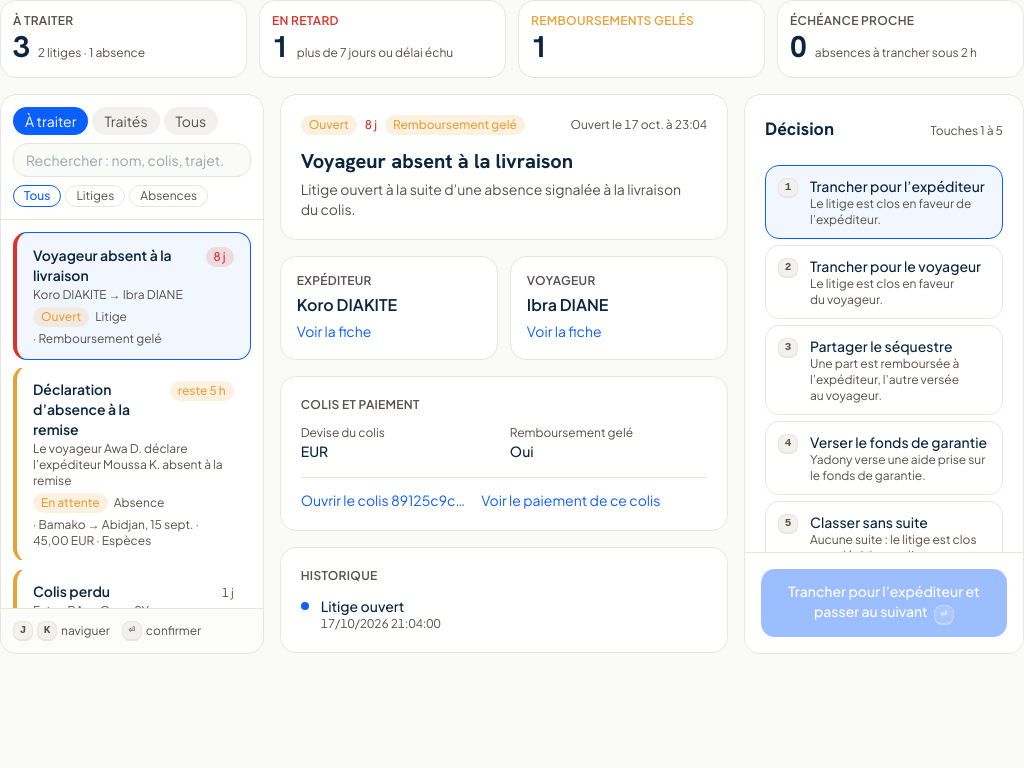
pages/incidents › décisions sur une absence › confirmer : motif envoyé, message, absence sortie de la file
Click the button with test id "incident-open-noshow:n1".
click(132, 464)  # box [13,366,251,562]
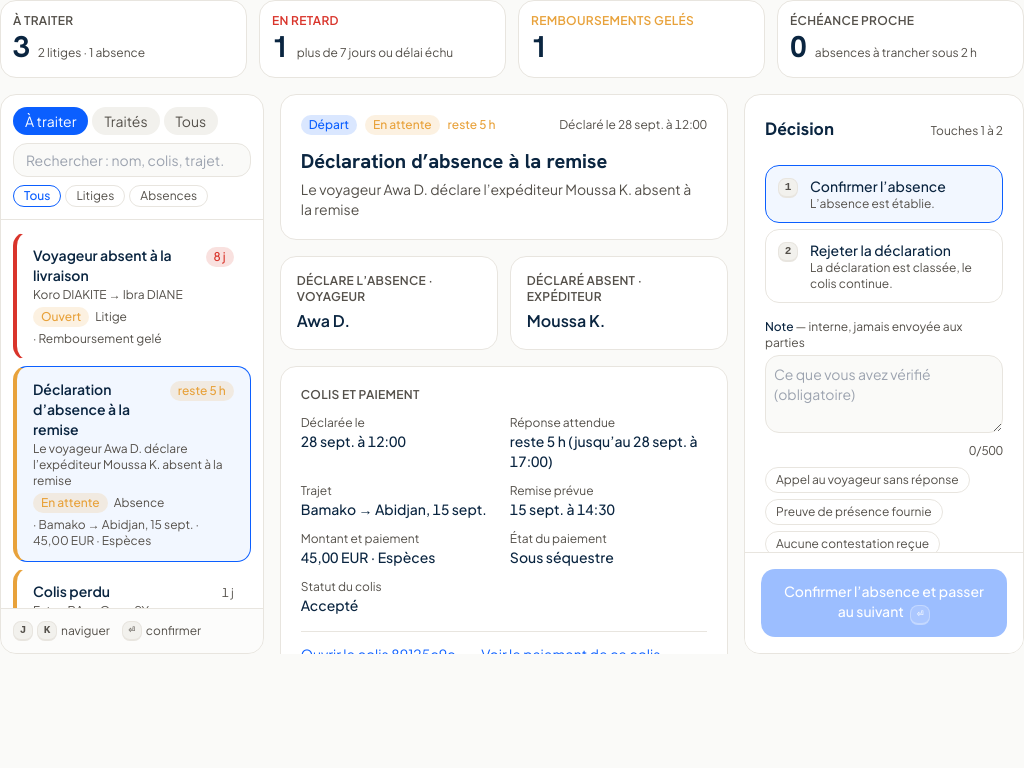
Type "Appel au voyageur sans réponse" into the text box with test id "incident-note".
click(884, 394); type("Appel au voyageur sans réponse")  # box [765,355,1003,433]
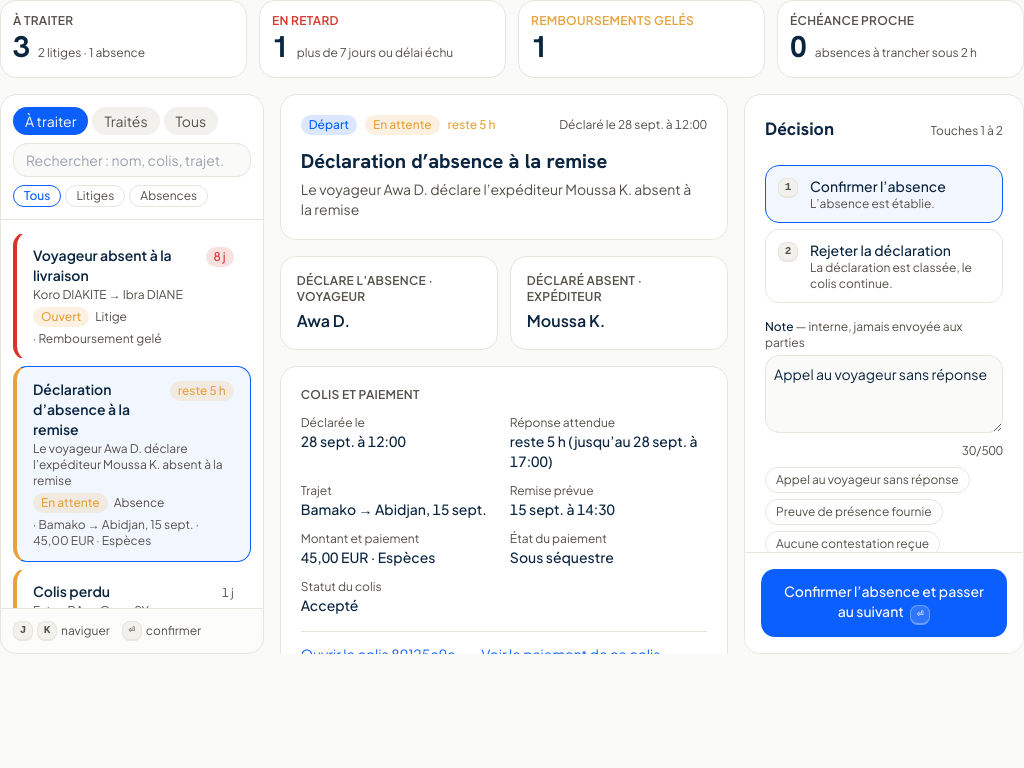
Click the button with test id "incident-confirm".
click(884, 603)  # box [761,569,1007,637]
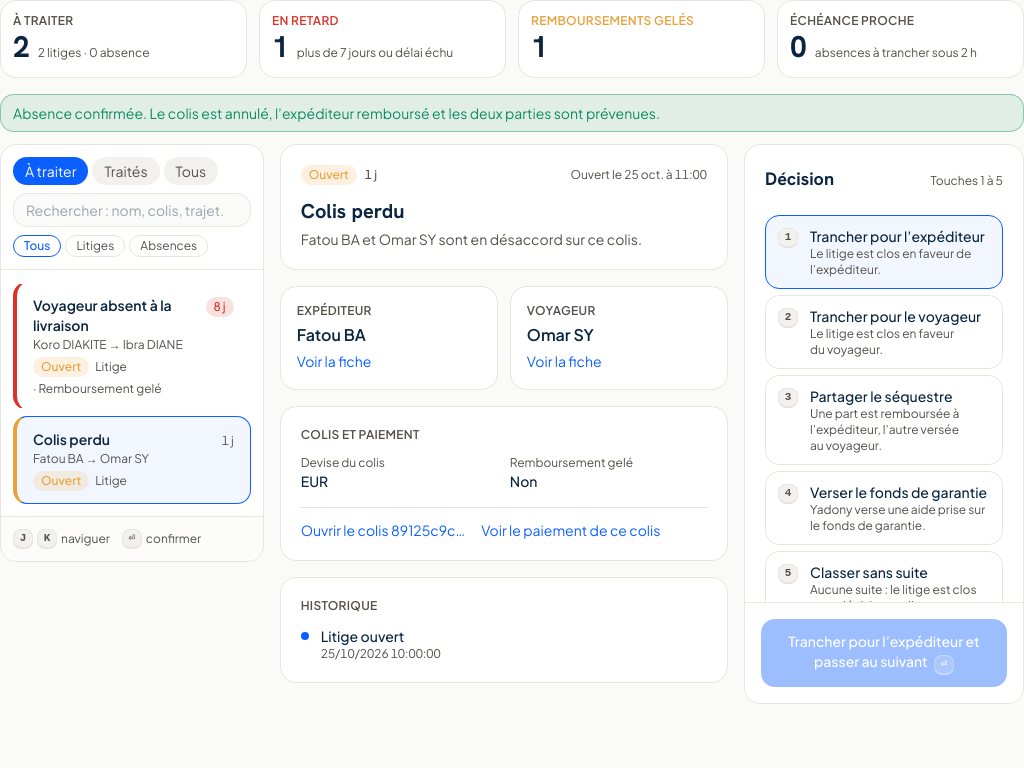
Expected: the message with test id "incidents-done" shows "Absence confirmée", [13,104,660,122]
